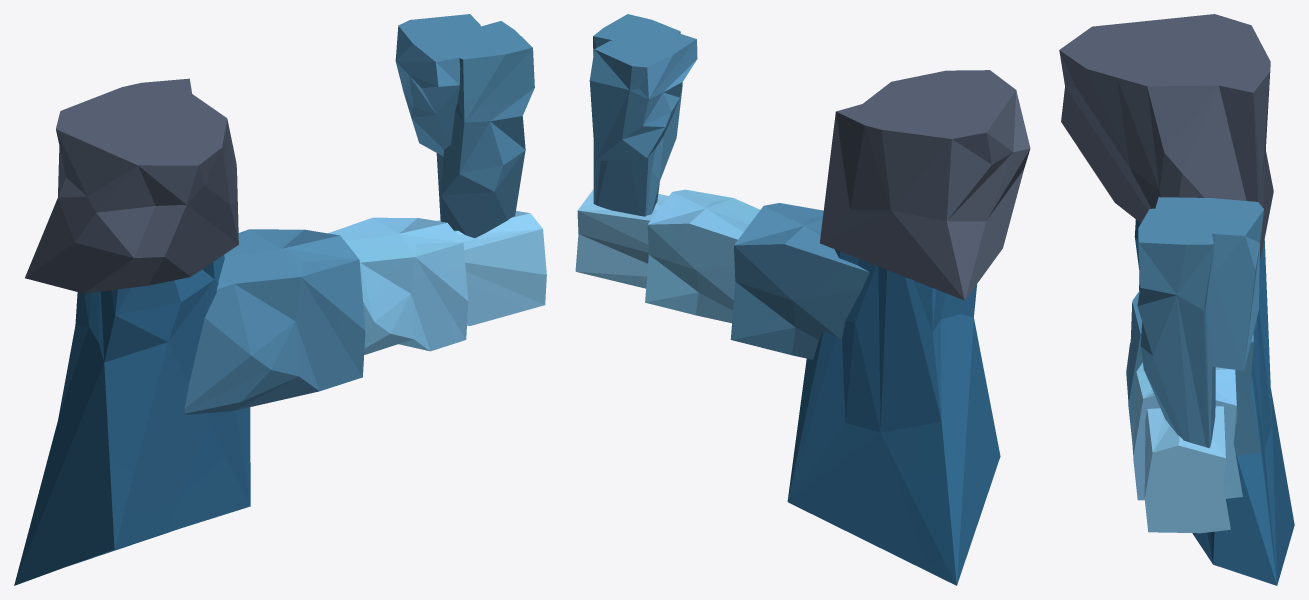
Rendered from sp_rock08.glb.
3 views of the same model, side by side, from view 1: azimuth 30°, elevation 25°; view 2: azimuth 150°, elevation 25°; view 3: azimuth 270°, elevation 25° (orthographic). The views are drawn at different scales.
Visible parts, largest first — view 1: SP_Rock08; view 2: SP_Rock08; view 3: SP_Rock08.
Part boxes in pixels (left/top/right/bottom): SP_Rock08: left=14, top=14, right=546, bottom=585; SP_Rock08: left=575, top=14, right=1030, bottom=585; SP_Rock08: left=1059, top=14, right=1294, bottom=585.
Bounding box in the file's own units: 413 × 413 × 172.
1 material, 1 textured.
